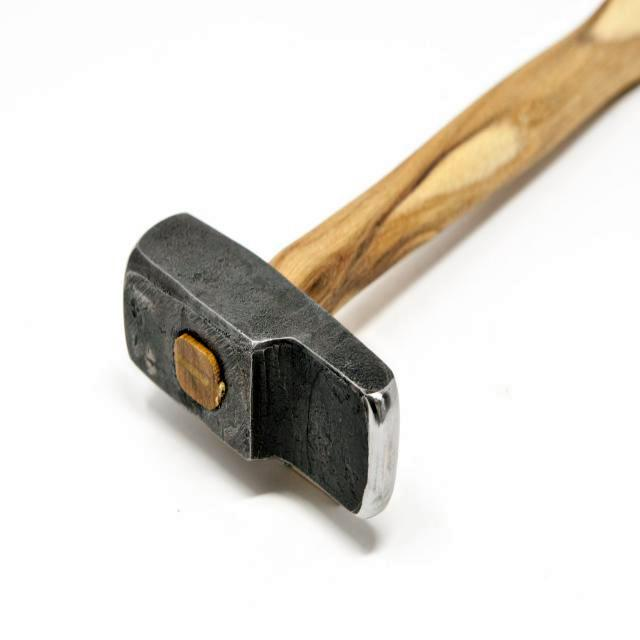hammer: (115, 0, 640, 522)
